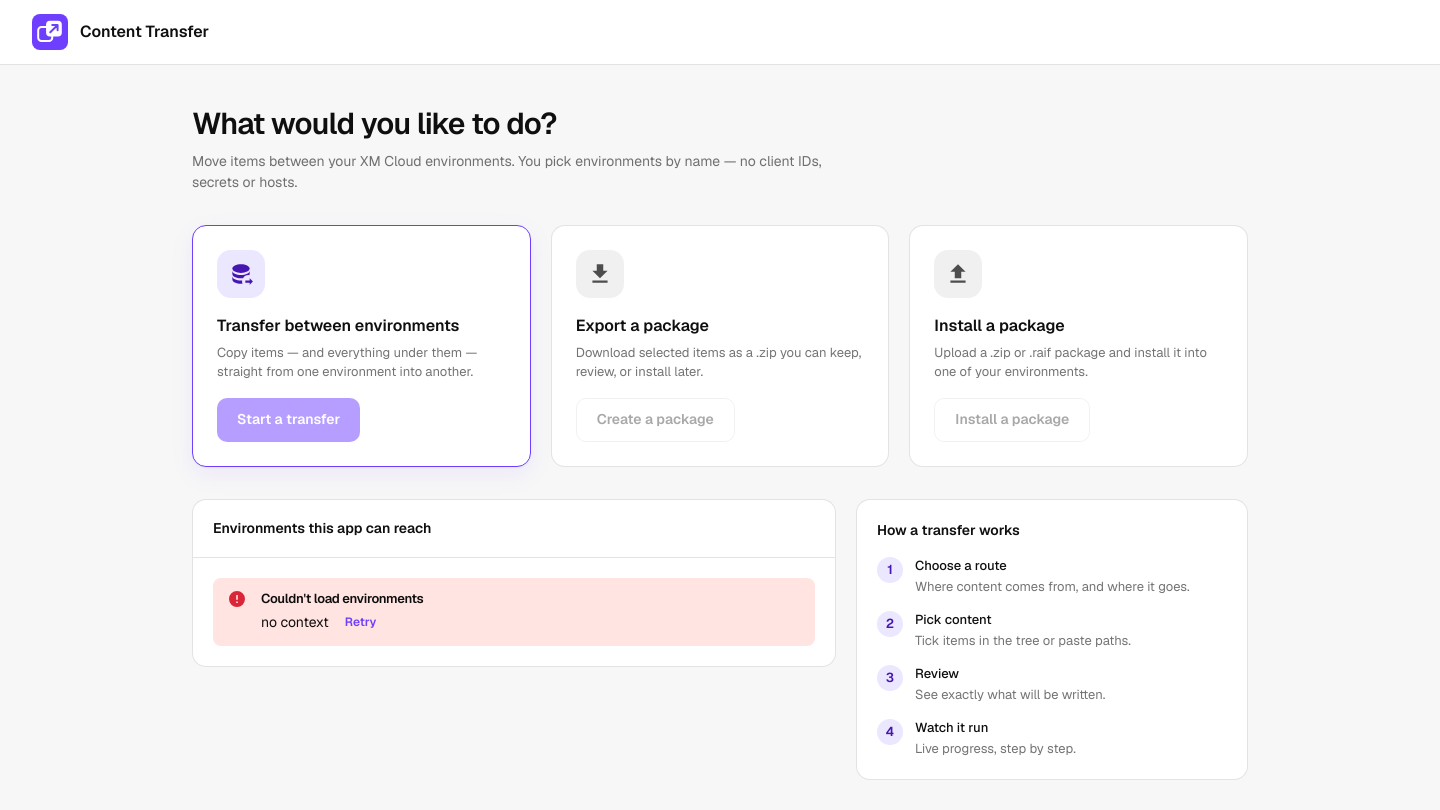
Test: App › shows a Retry alert when the context fails, and Retry reloads
The image size is (1440, 810).
Expected: the message shows "no context", [261,613,329,631]
Expected: the button "Start a transfer" is disabled, [217,398,360,442]
Step 1. Click the button "Retry" → (361, 622), box [337,610,384,634]
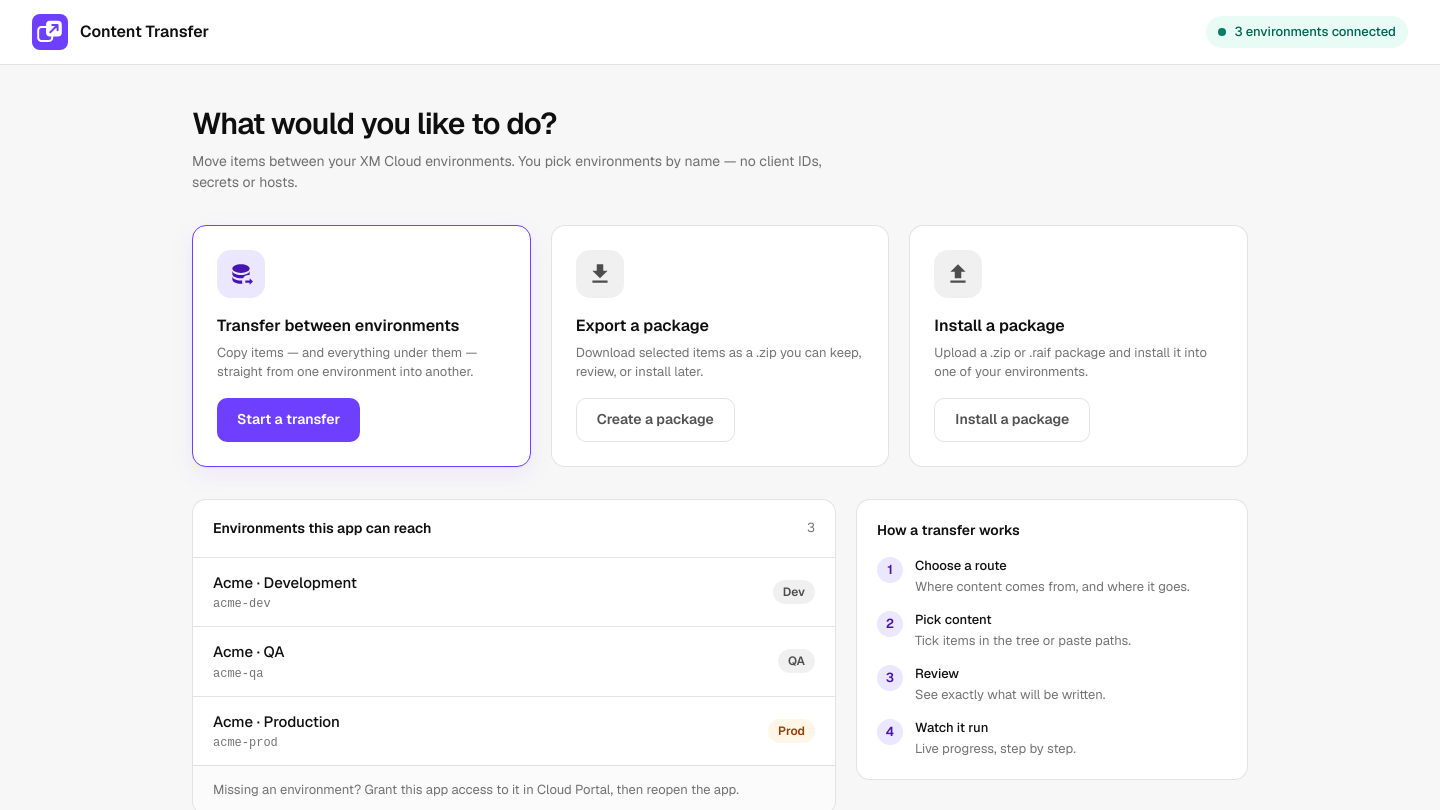
Result: the text "3 environments connected" is shown at [1206,16,1408,48]
Result: the message "Couldn't load environments no context Retry" is gone
Result: the button "Start a transfer" is enabled at [217,398,360,442]
